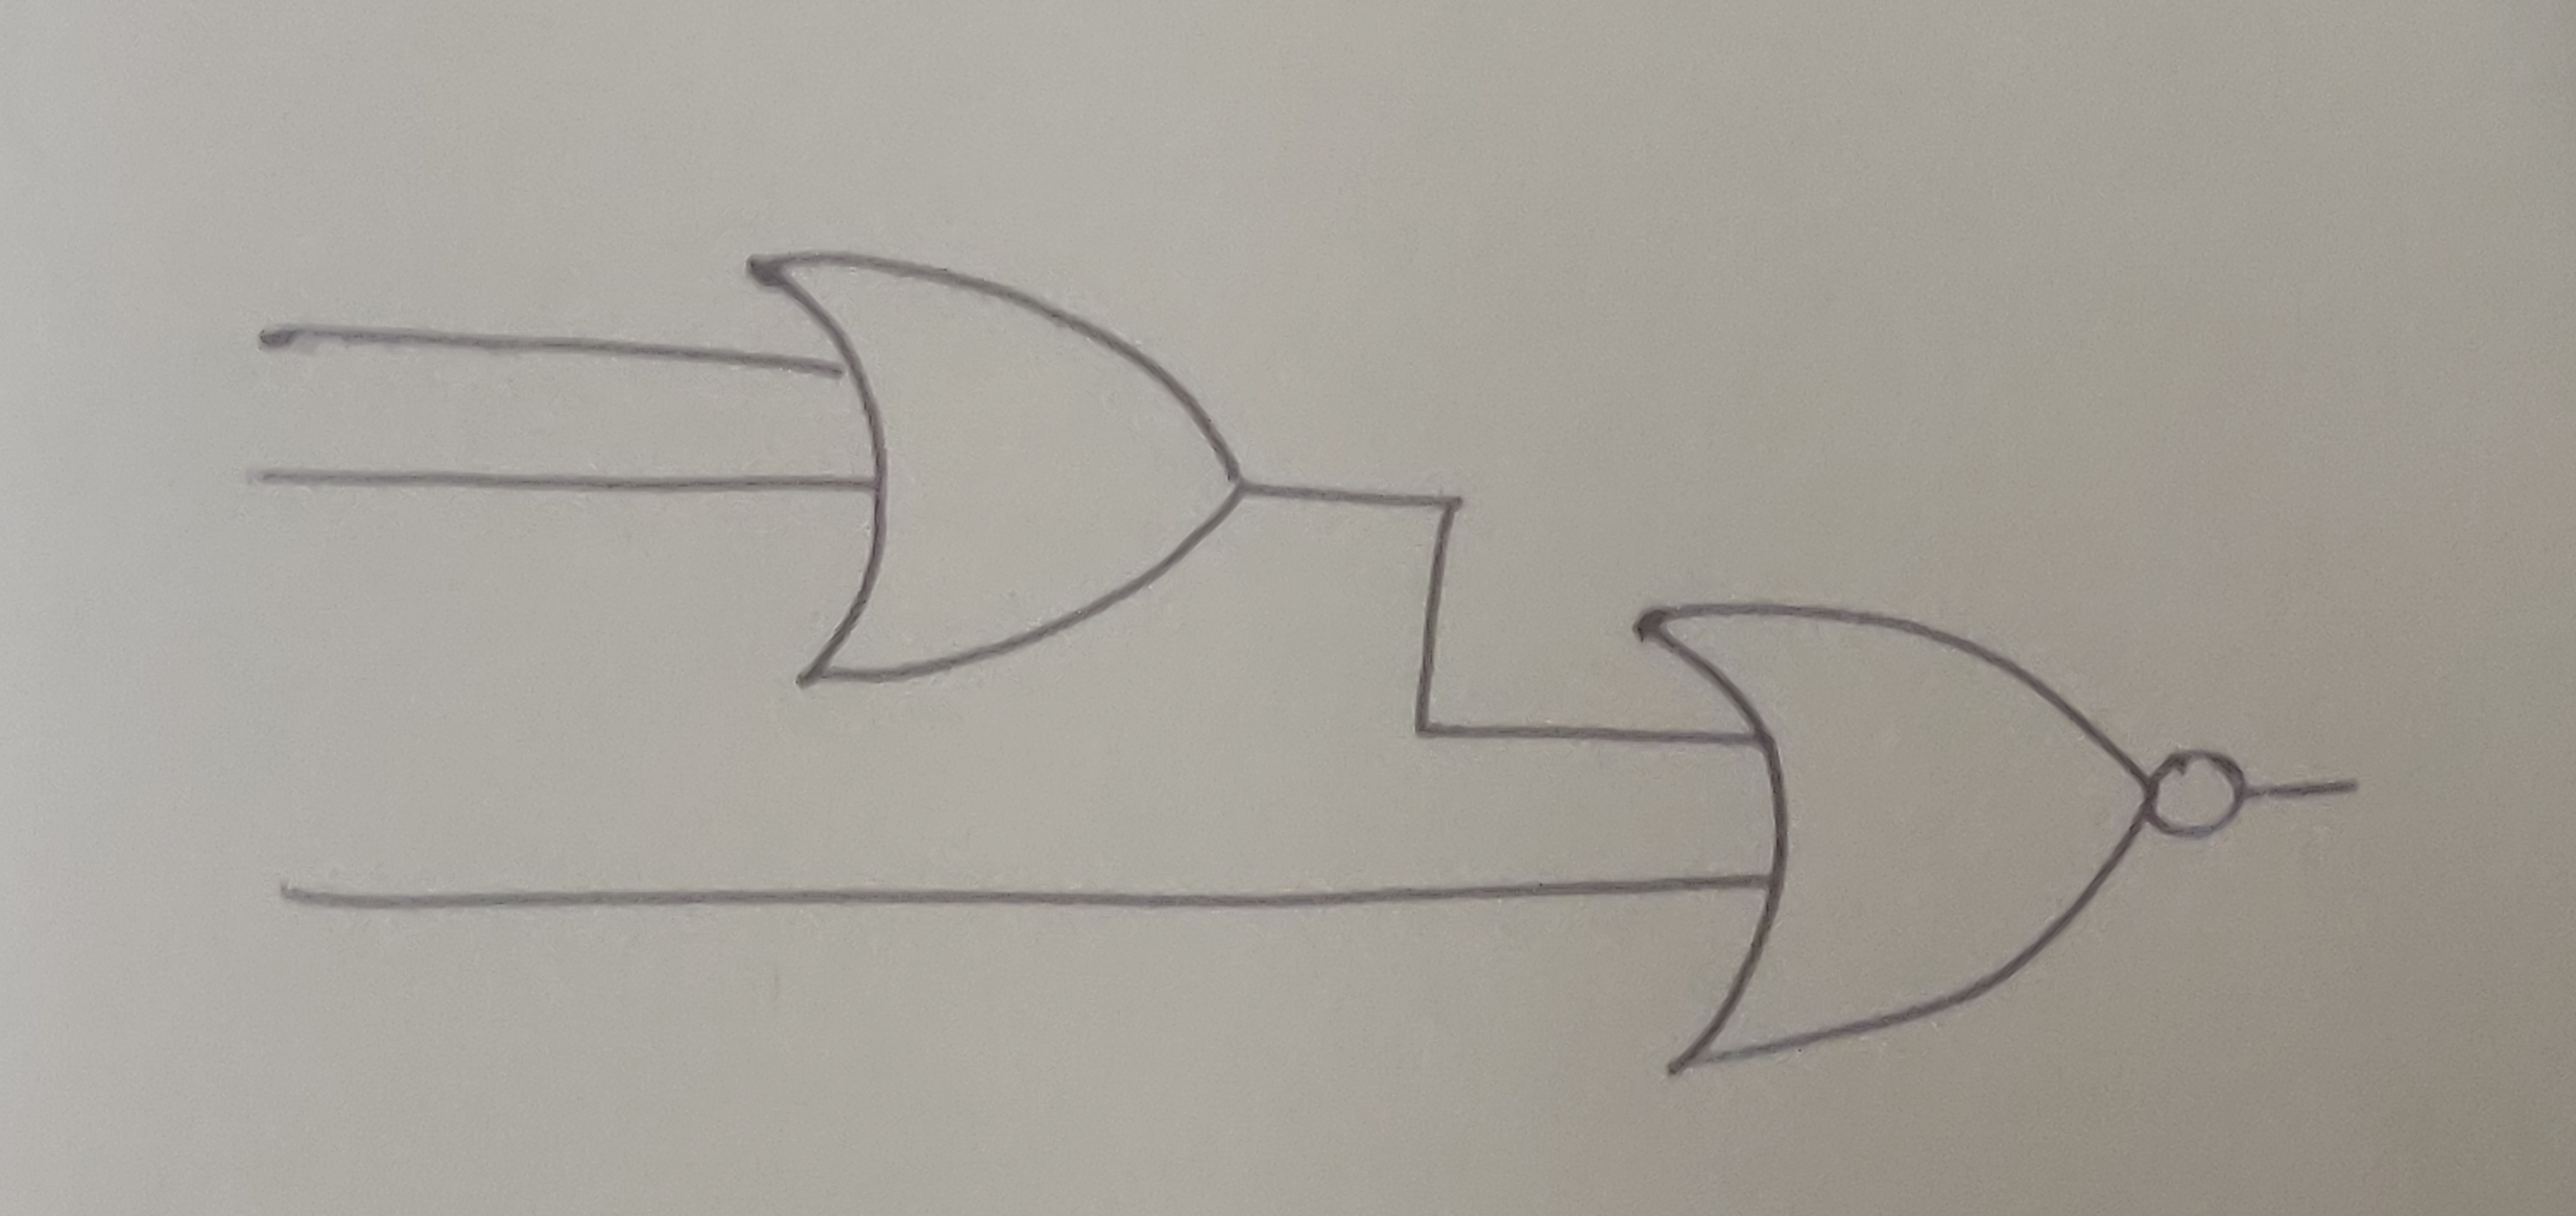not: (2139, 746, 2254, 851)
or: (1626, 605, 2155, 1075), (739, 246, 1252, 687)
